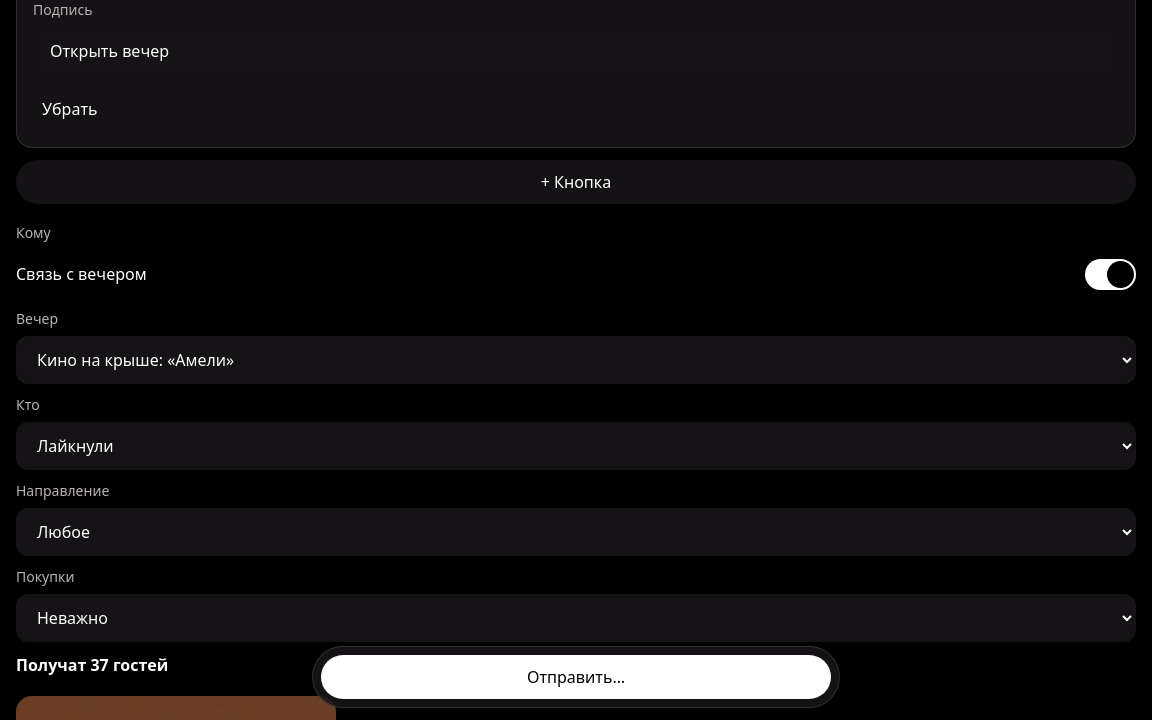
Test: CampaignEditor › does not send to nobody
The width and height of the screenshot is (1152, 720).
(page scrolled)
Select "Разговор о городе" in the dropdown labelled "Вечер" at (576, 360), box [16,336,1136,384]
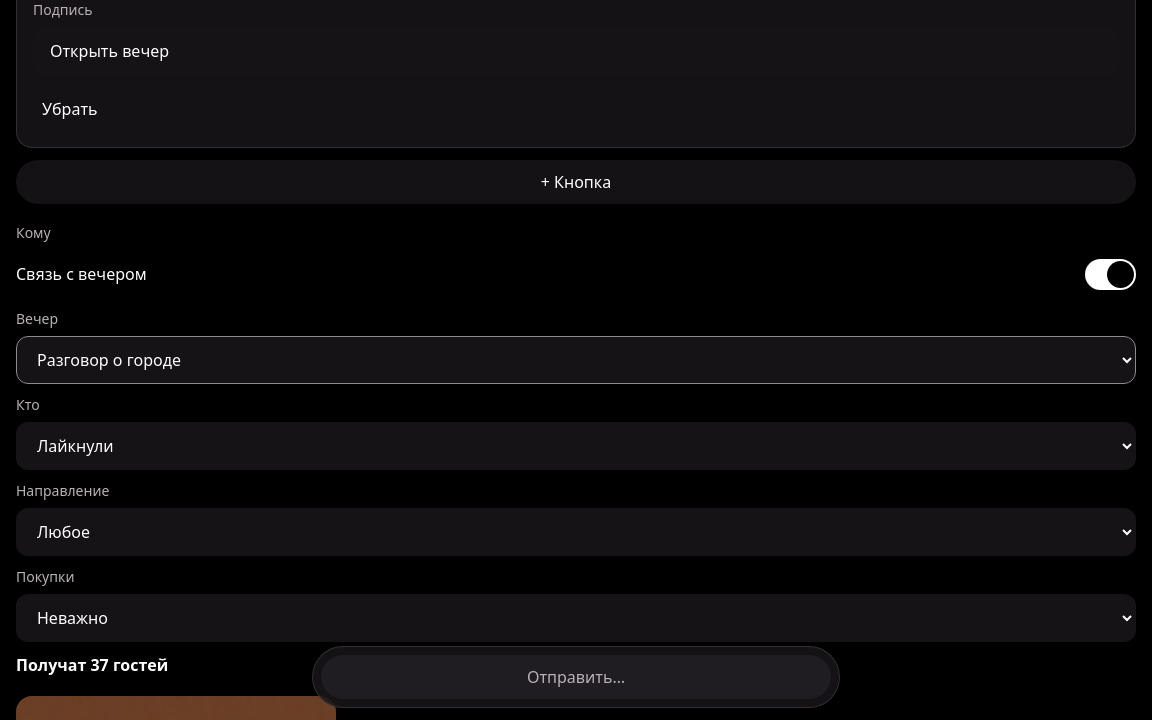
Select "Идут на вечер" in the dropdown labelled "Кто" at (576, 446), box [16,422,1136,470]
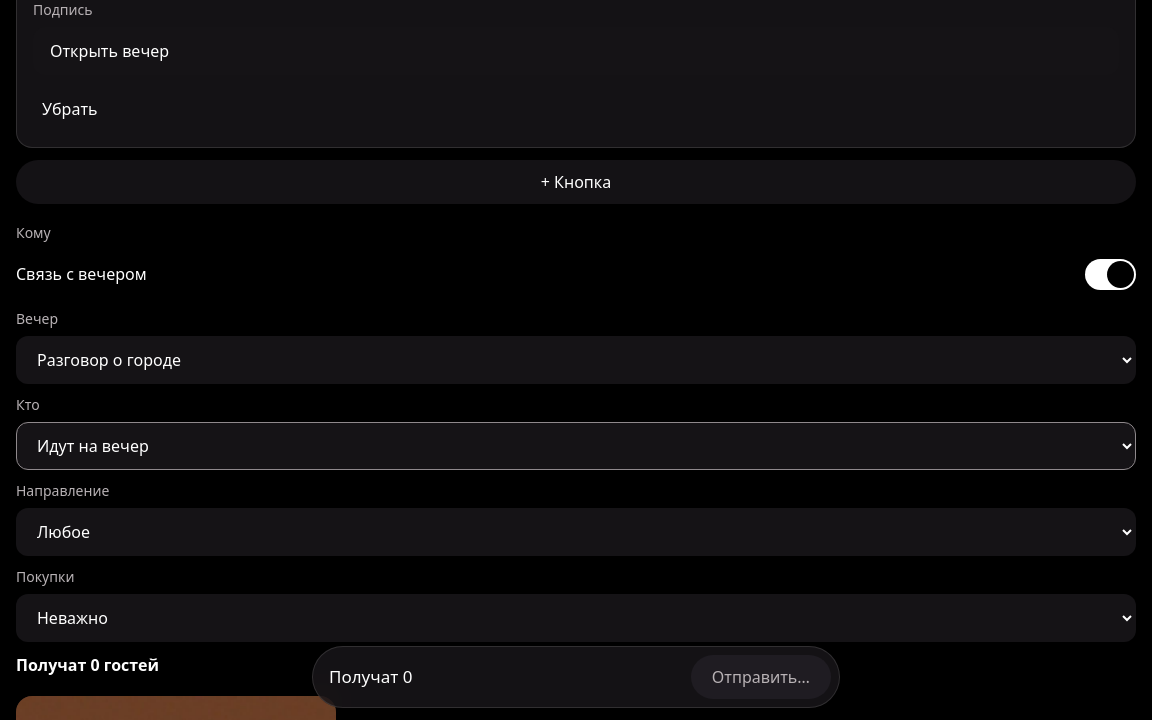
Result: the button "Отправить…" is disabled at [691,655,831,699]
Result: the text "Получат 0" is shown at [329,665,412,688]
